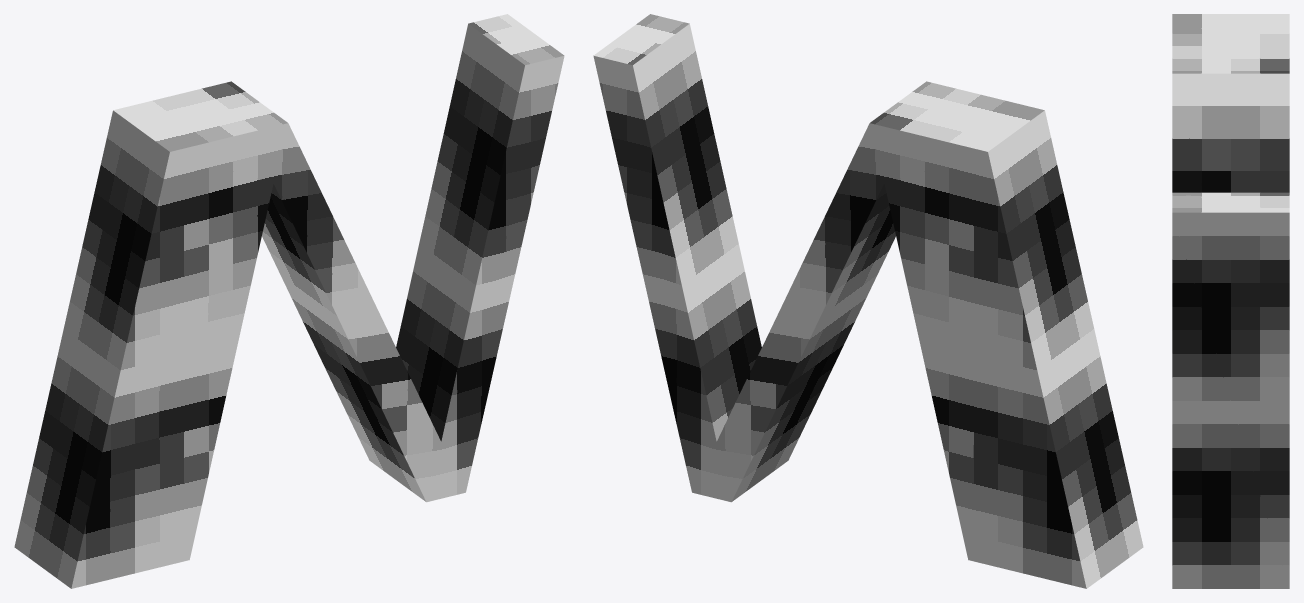
3 renders of one model, left to right at view 1: azimuth 30°, elevation 25°; view 2: azimuth 150°, elevation 25°; view 3: azimuth 270°, elevation 25°, orthographic. The views are drawn at different scales.
Parts seen in each view (by area): view 1: Mesh0; view 2: Mesh0; view 3: Mesh0.
Boxes of the visible parts, <box> form: Mesh0: <box>14,14,564,588</box>; Mesh0: <box>593,14,1143,588</box>; Mesh0: <box>1172,14,1289,588</box>.
Size of the model in its own units: 100 by 80 by 20.
Materials: 1 (1 with a texture image).
